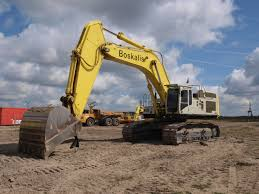excavator: (18, 20, 221, 161)
